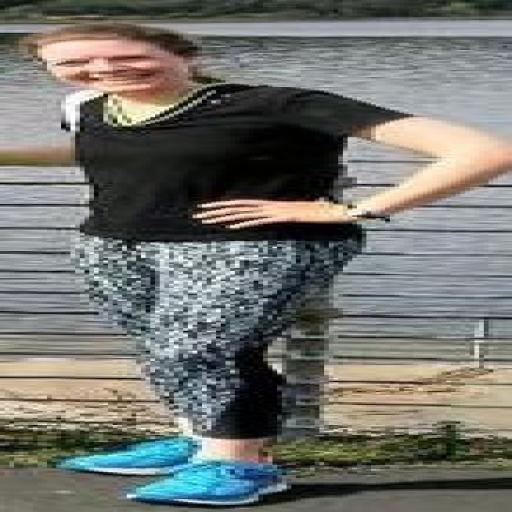person: (0, 23, 511, 506)
